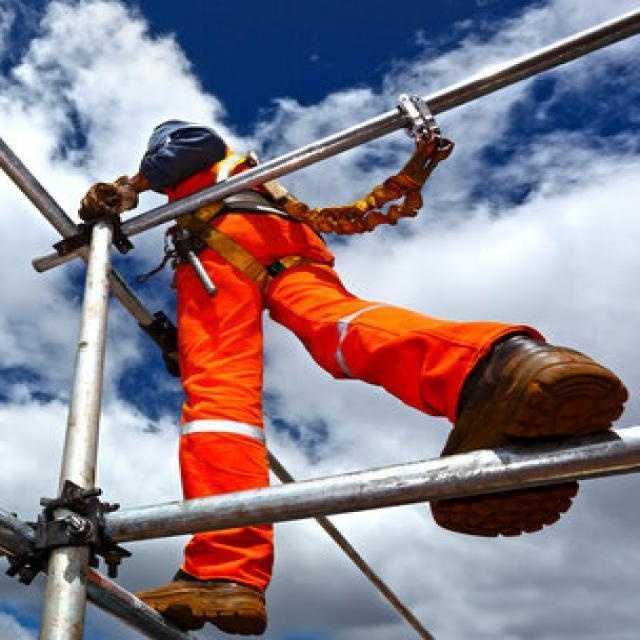Arnes_seguridad: (176, 150, 311, 294)
